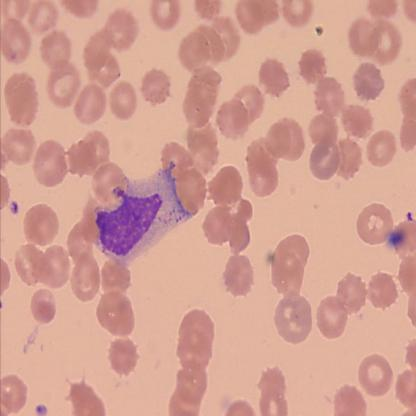Myelocyte: (96, 163, 185, 261)
